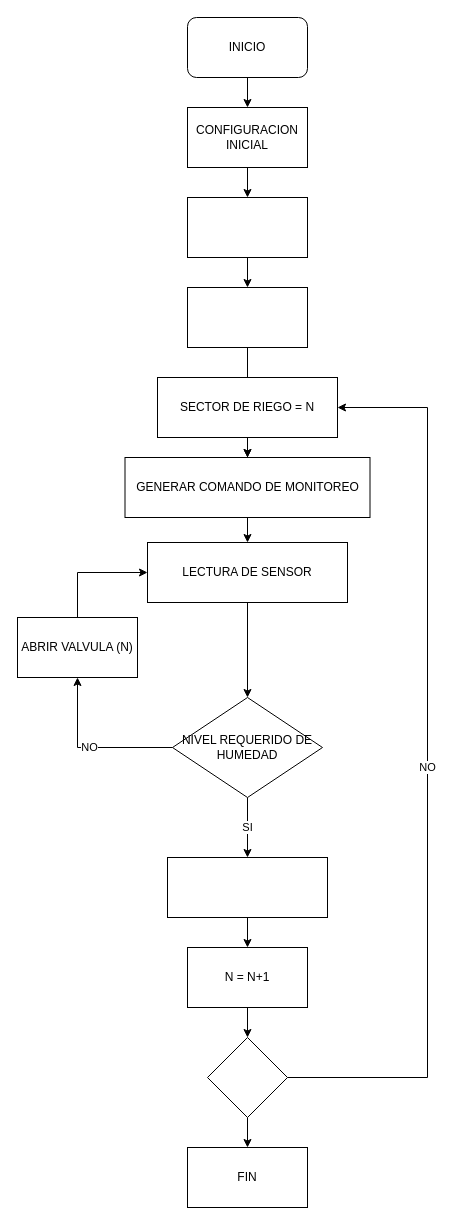
Some shapes in this 453 by 1225 pixel diagram are drawn without their labels. The shapes that lost their labels are listed below. From the top down, each one's box as (x1, y1, x2, y2) in pixels, then its label:
(186, 196, 308, 258): CALIBRAR SENSORES
(186, 286, 308, 348): INICIO DEL CICLO DE RIEGO N = 1
(166, 856, 328, 918): CERRAR VALVULA (N)
(206, 1036, 288, 1118): N >= 8
